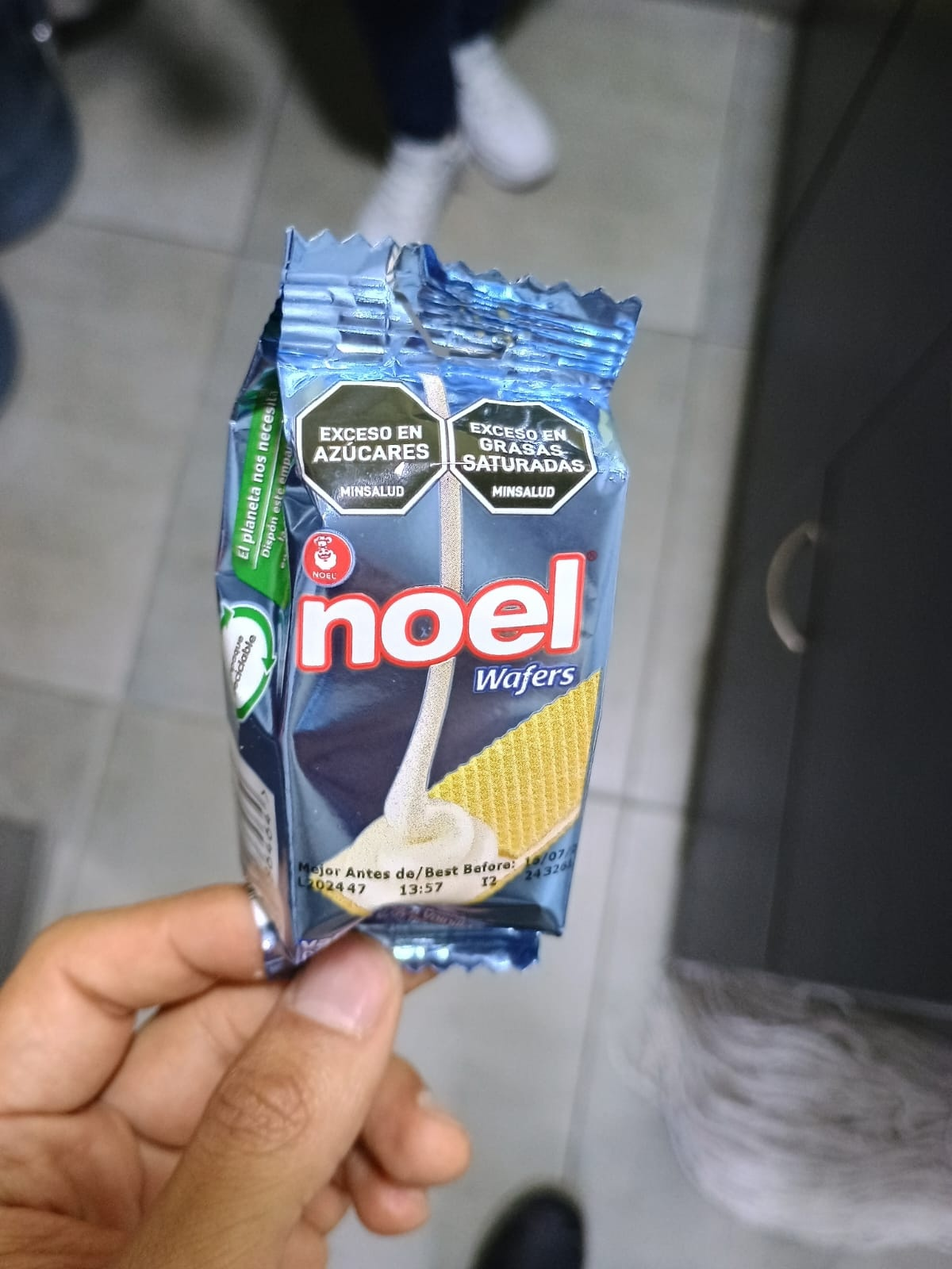Ordinario: (221, 221, 637, 981)
